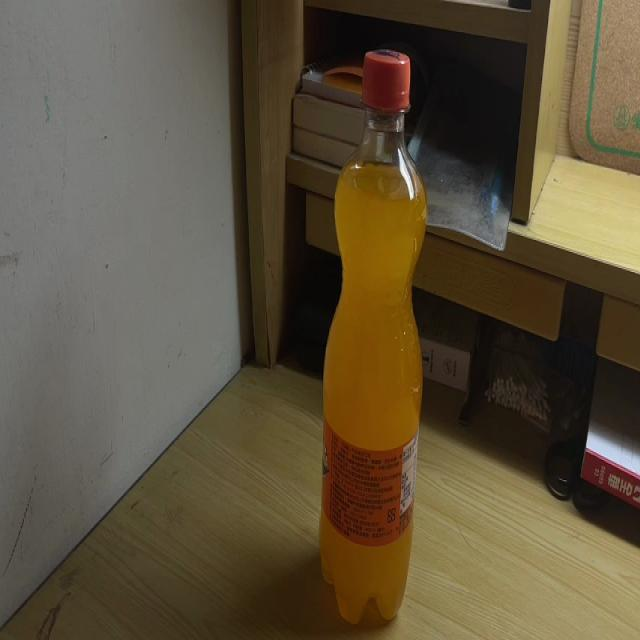Fanta: (319, 46, 427, 625)
